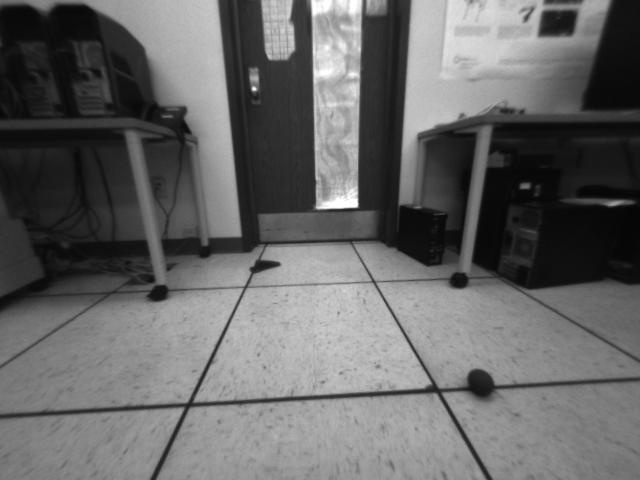dogtoy: (461, 362, 502, 403)
